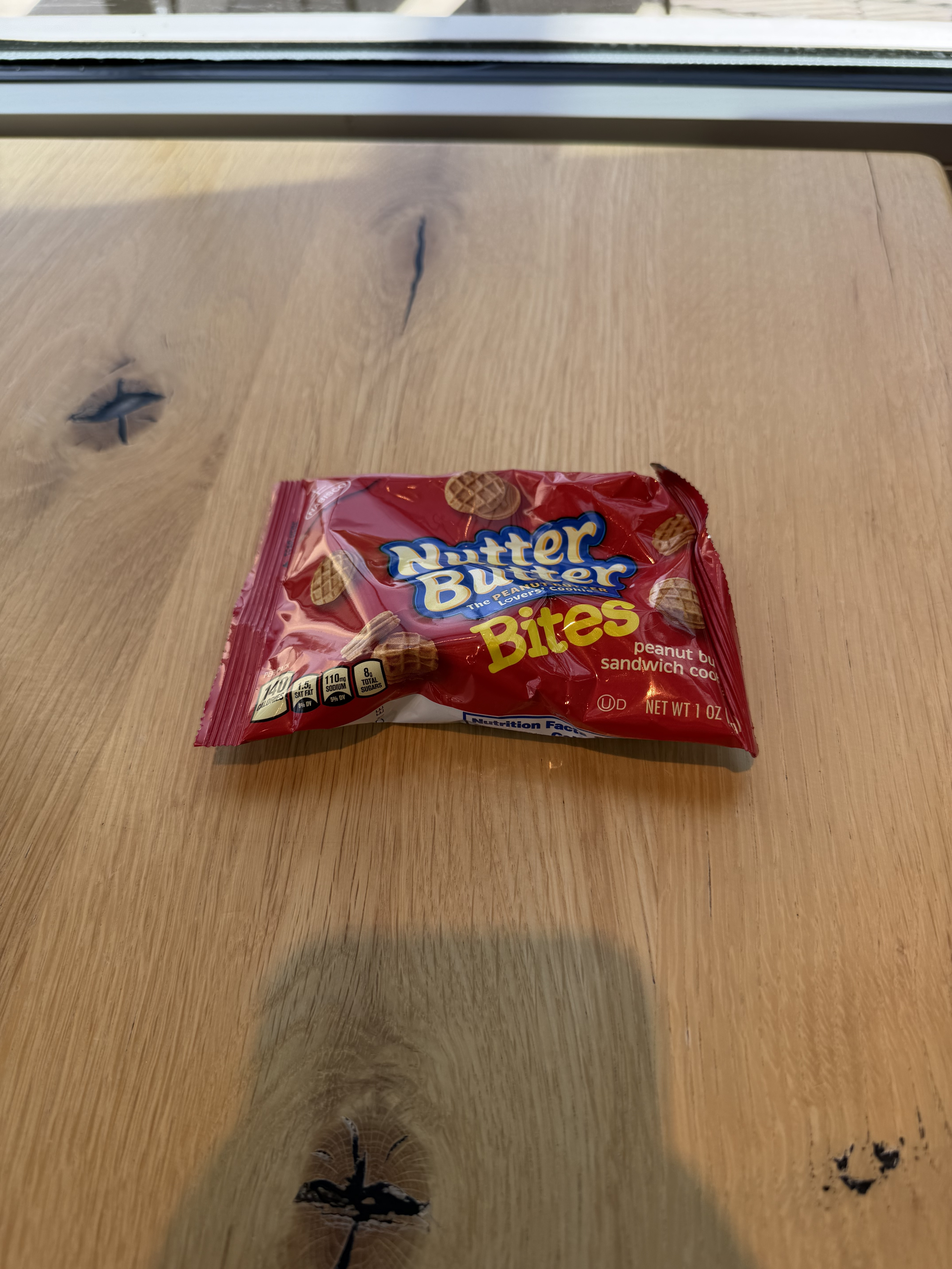nutter_butter: (226, 429, 761, 784)
